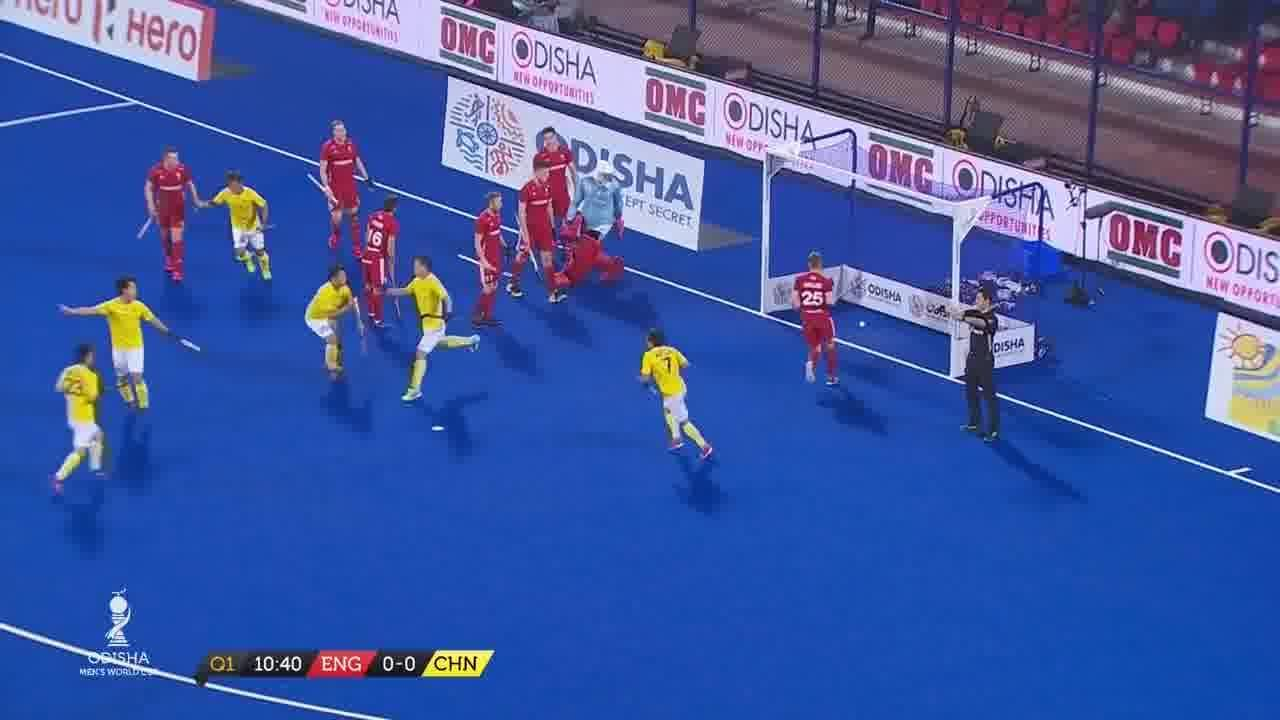ball: (855, 317, 871, 331)
